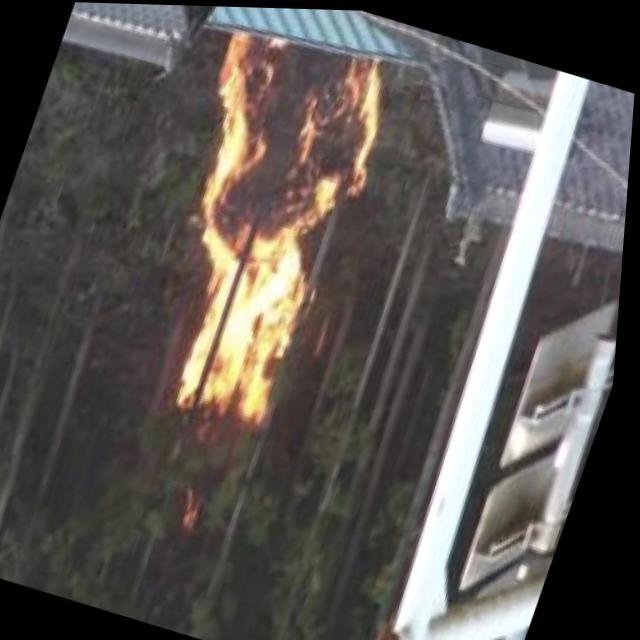fire: (110, 11, 422, 448)
